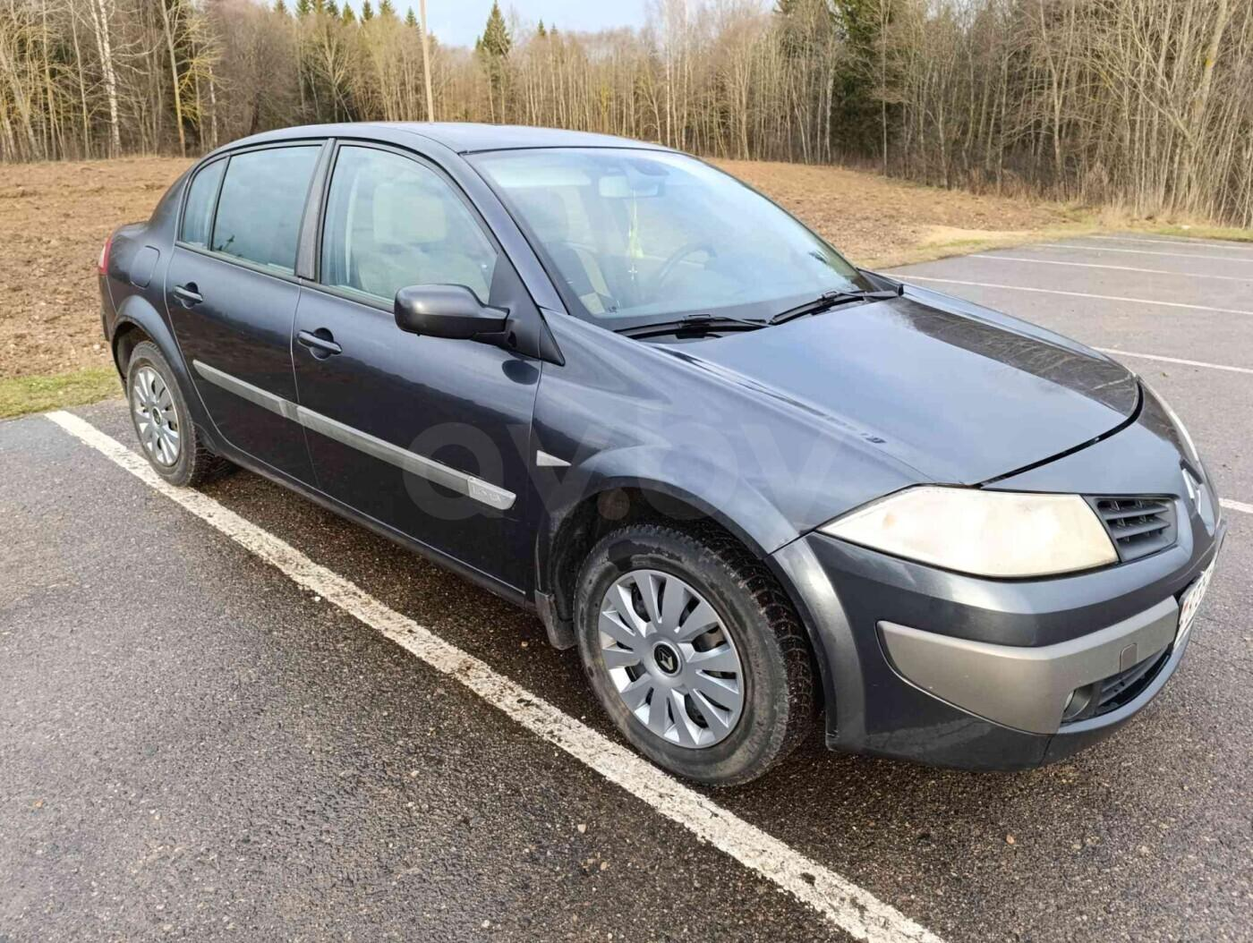Megane_2005-2009: (91, 107, 1226, 789)
